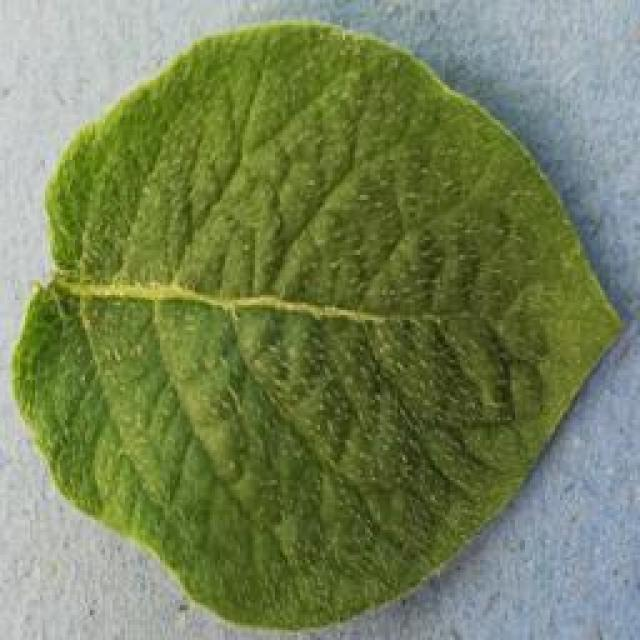Potato_Healthy: (15, 22, 617, 628)
